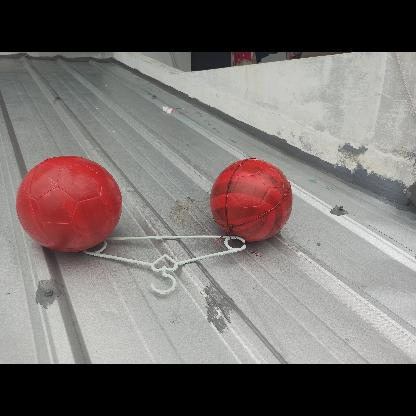red_ball: (15, 151, 119, 255), (210, 156, 294, 240)
